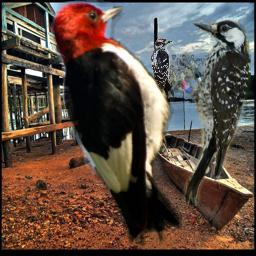Woodpecker: (50, 0, 202, 250), (170, 20, 251, 206), (150, 38, 174, 99)
